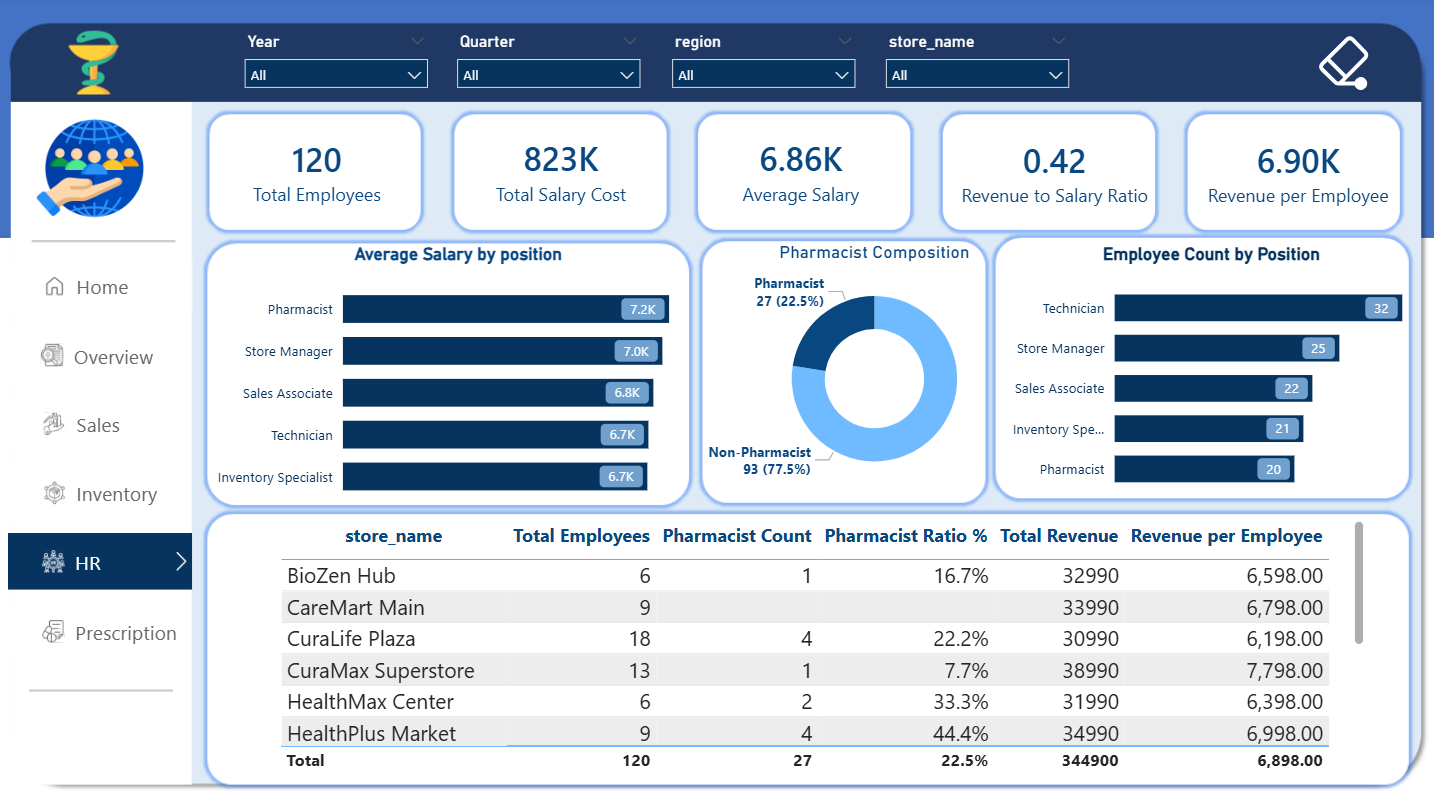

This screenshot's page, from the dashboard's own definition file:
{"tool":"powerbi","page":{"name":"HR Analytics","canvas":[1280,720],"ordinal":4},"visuals":[{"type":"cardVisual","fields":{"Data":["HR KPIs.Total Employees"]},"box":[192.5,104.1,183.4,101.5],"z":0},{"type":"actionButton","title":"Button HR active","box":[9.1,476.7,163.9,50.7],"z":0,"group":"g1"},{"type":"cardVisual","fields":{"Data":["HR KPIs.Total Salary Cost"]},"box":[402,102.8,199,102.8],"z":1000},{"type":"actionButton","box":[145.7,476.7,27.3,50.7],"z":1000,"group":"g1"},{"type":"cardVisual","fields":{"Data":["HR KPIs.Average Salary"]},"box":[614,102.8,201.6,102.8],"z":2000},{"type":"cardVisual","fields":{"Data":["HR KPIs.Revenue to Salary Ratio"]},"box":[827.3,104.1,228.9,102.8],"z":3000},{"type":"cardVisual","fields":{"Data":["SALES KPIs.Revenue per Employee"]},"box":[1045.9,104.1,223.7,102.8],"z":4000},{"type":"barChart","title":"Employee Count by Position","fields":{"Y":["HR KPIs.Total Employees"],"Category":["Employees.position"]},"box":[882,219.8,398,232.8],"z":5000},{"type":"barChart","fields":{"Category":["Employees.position"],"Y":["HR KPIs.Average Salary"]},"box":[180.8,219.8,459.2,240.7],"z":6000},{"type":"donutChart","title":"Pharmacist Composition","fields":{"Category":["Employees.Pharmacist_Label"],"Y":["HR KPIs.Total Employees"]},"box":[628,216.6,305.7,226.8],"z":7000},{"type":"tableEx","fields":{"Values":["Stores.store_name","HR KPIs.Total Employees","HR KPIs.Pharmacist Count","HR KPIs.Pharmacist Ratio %","FINANCIAL KPIS.Total Revenue","SALES KPIs.Revenue per Employee"]},"box":[245.9,460.5,975.6,232.8],"z":8000},{"type":"slicer","fields":{"Values":["Date_Dim.Year"]},"box":[209.1,25.6,183.5,63.2],"z":9000},{"type":"slicer","fields":{"Values":["Date_Dim.Quarter"]},"box":[398.7,25.6,183.5,63.2],"z":10000},{"type":"slicer","fields":{"Values":["Stores.region"]},"box":[589.8,25.6,183.5,63.2],"z":11000},{"type":"slicer","fields":{"Values":["Stores.store_name"]},"box":[780.8,25.6,183.5,63.2],"z":12000},{"type":"actionButton","box":[9.5,231.2,163.3,50.3],"z":13000},{"type":"actionButton","box":[9.1,538.5,162.6,50.7],"z":14000},{"type":"actionButton","box":[7.8,292.5,163.9,50.7],"z":15000},{"type":"actionButton","box":[10.4,354.4,162.6,50.7],"z":16000},{"type":"actionButton","box":[10.4,416.2,162.6,49.4],"z":18000},{"type":"shape","box":[30.2,201,128.2,30.2],"z":19000},{"type":"image","box":[56.5,26.4,56.5,61.6],"z":20000},{"type":"group","id":"g1","title":"Group 4","box":[9.1,476.7,163.9,50.7],"z":24000},{"type":"shape","box":[27.5,601.8,128.3,29],"z":26000},{"type":"image","box":[1171.5,25.3,55.5,62.7],"z":27000},{"type":"image","box":[30,102.5,103.8,98.8],"z":28000}]}

Visuals, with their boxes on the page's 1280x720 design canvas (x1, y1, x2, y2). These are canvas units, not pixel positions in the 1434x791 screenshot, which may show the page scaled, cropped or inside an application window:
cardVisual - HR KPIs.Total Employees: 192 104 376 206
"Button HR active" actionButton: 9 477 173 527
cardVisual - HR KPIs.Total Salary Cost: 402 103 601 206
actionButton: 146 477 173 527
cardVisual - HR KPIs.Average Salary: 614 103 816 206
cardVisual - HR KPIs.Revenue to Salary Ratio: 827 104 1056 207
cardVisual - SALES KPIs.Revenue per Employee: 1046 104 1270 207
"Employee Count by Position" barChart: 882 220 1280 453
barChart - Employees.position x HR KPIs.Average Salary: 181 220 640 460
"Pharmacist Composition" donutChart: 628 217 934 443
tableEx - Stores.store_name x HR KPIs.Total Employees: 246 460 1222 693
slicer - Date_Dim.Year: 209 26 393 89
slicer - Date_Dim.Quarter: 399 26 582 89
slicer - Stores.region: 590 26 773 89
slicer - Stores.store_name: 781 26 964 89
actionButton: 10 231 173 282
actionButton: 9 538 172 589
actionButton: 8 292 172 343
actionButton: 10 354 173 405
actionButton: 10 416 173 466
shape: 30 201 158 231
image: 56 26 113 88
"Group 4" group: 9 477 173 527
shape: 28 602 156 631
image: 1172 25 1227 88
image: 30 102 134 201
